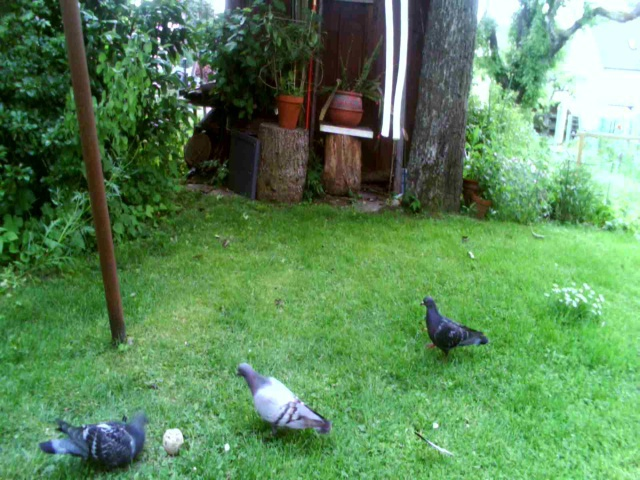Pigeon: (232, 354, 334, 447), (36, 408, 158, 469), (411, 295, 494, 362)
